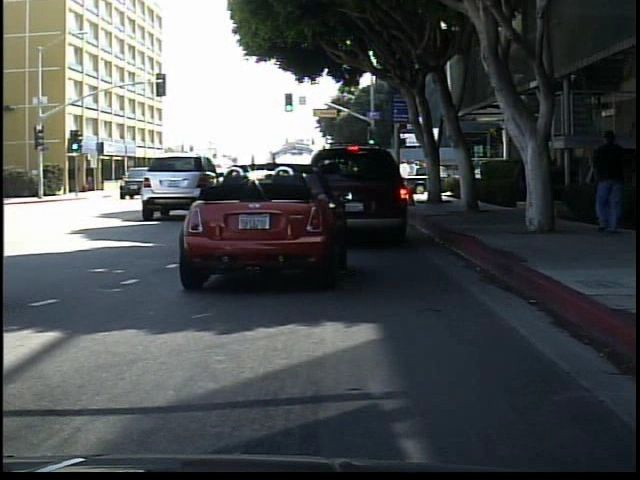person: (585, 132, 631, 239), (514, 145, 543, 226)
